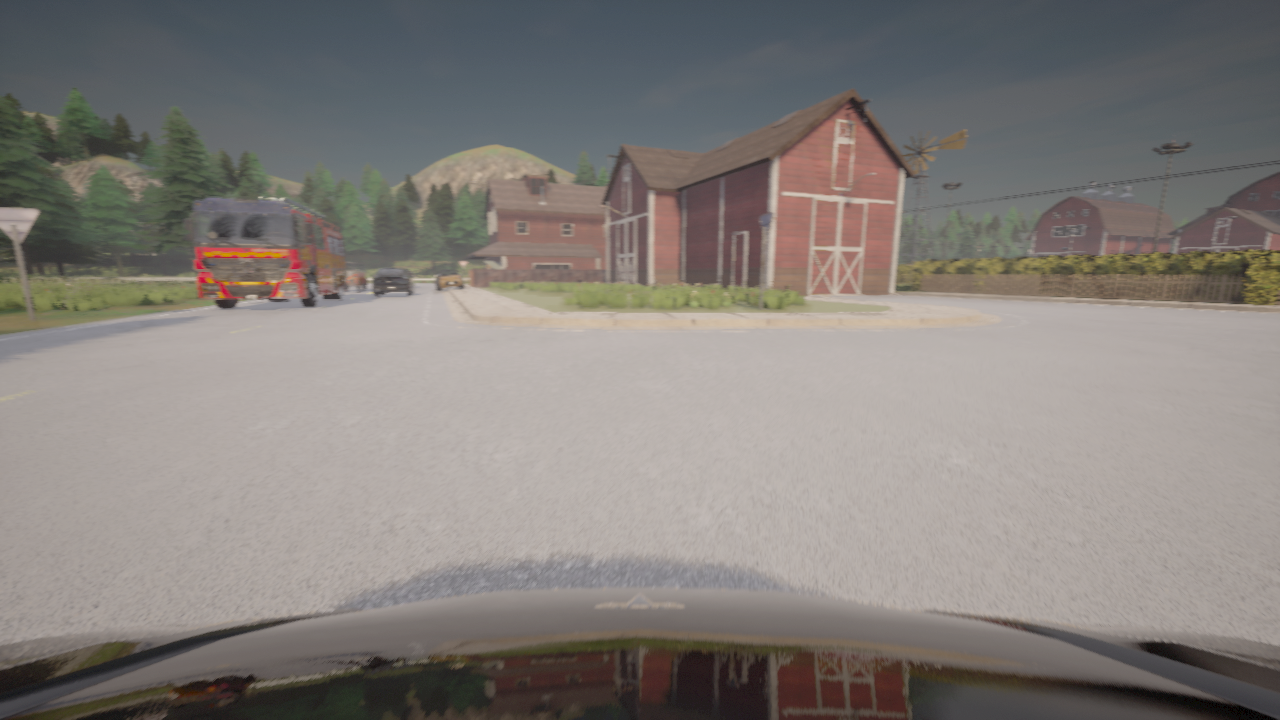cyclist: (0, 588, 1279, 719), (184, 196, 347, 308), (373, 268, 416, 296), (435, 269, 464, 290), (346, 261, 366, 291), (410, 275, 411, 276)
